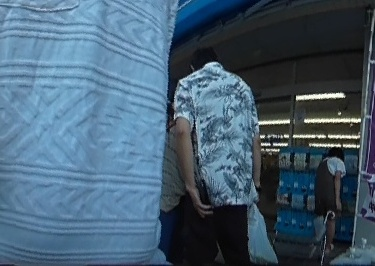person: (178, 48, 263, 265), (312, 144, 345, 253)
